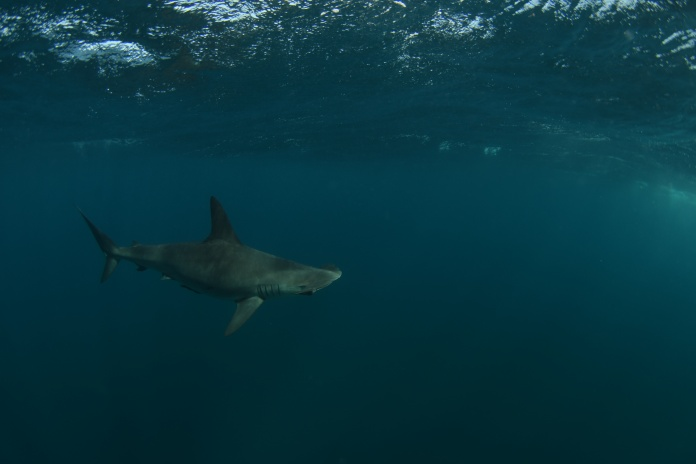Hammer: (53, 181, 434, 384)
